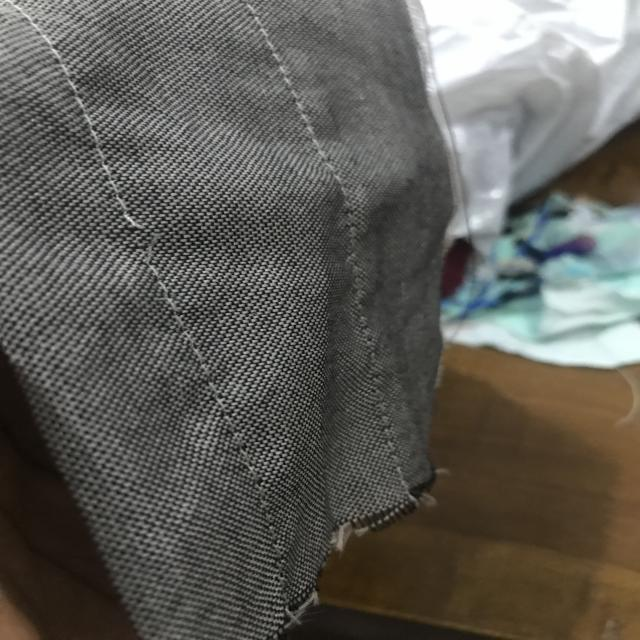broken: (89, 211, 180, 270)
